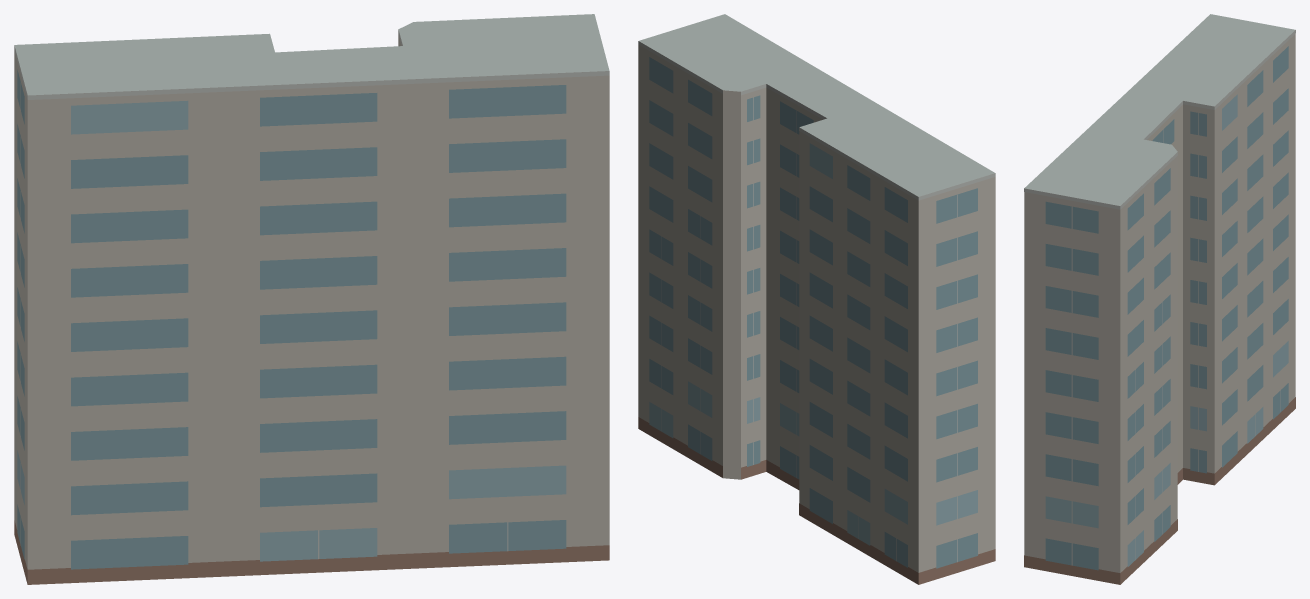
The model's file is survey-upis-32668033.glb.
The picture shows the model from 3 angles, left to right: view 1: azimuth 30°, elevation 25°; view 2: azimuth 150°, elevation 25°; view 3: azimuth 270°, elevation 25°; orthographic projection. The views are drawn at different scales.
Visible parts, largest first — view 1: survey-upis-32668033.tmp; view 2: survey-upis-32668033.tmp; view 3: survey-upis-32668033.tmp.
Part boxes in pixels (x1,y1,x2,y2): survey-upis-32668033.tmp: (14,14,609,584); survey-upis-32668033.tmp: (638,14,995,584); survey-upis-32668033.tmp: (1024,14,1295,584).
Size of the model in its own units: 28.07 by 25.8 by 16.78.
